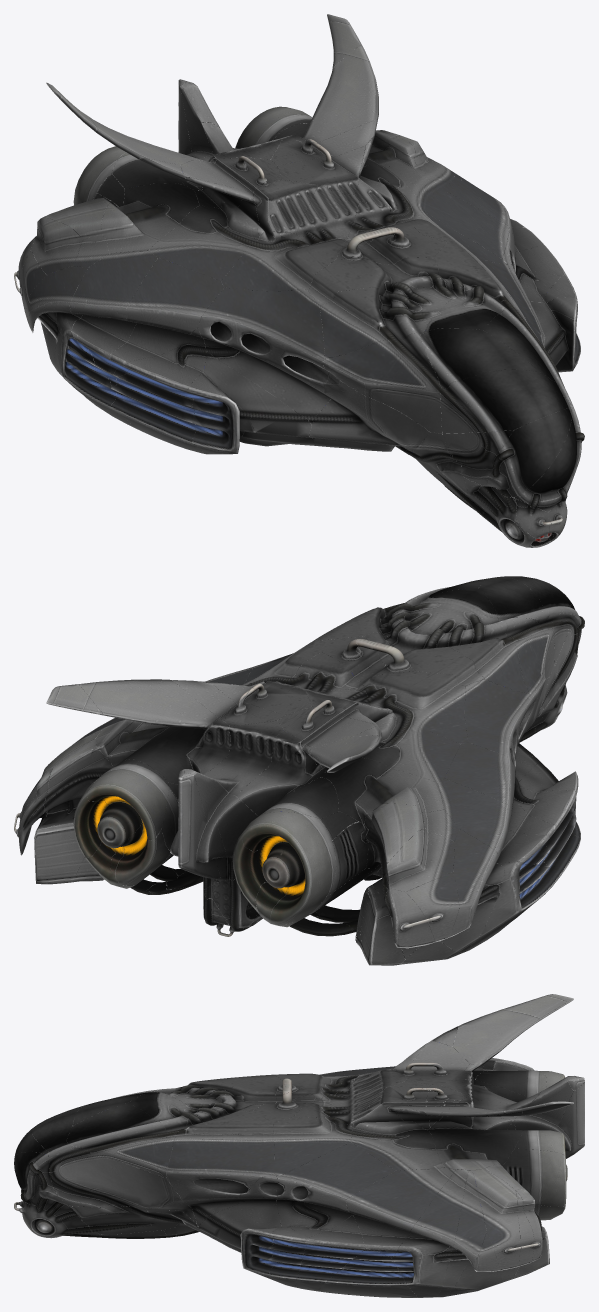
File: shipExplosion.glb
The picture shows the model from 3 angles, top to bottom: view 1: azimuth 30°, elevation 25°; view 2: azimuth 150°, elevation 25°; view 3: azimuth 270°, elevation 25°; orthographic projection. The views are drawn at different scales.
Visible parts, largest first — view 1: origin_cell.037, origin_cell.080, origin_cell.095, origin_cell.092, origin_cell.076, origin_cell.022, origin_cell.055, origin_cell.091, origin_cell.082, origin_cell.047, origin_cell.056, origin_cell.031 (+43 smaller); view 2: origin_cell.082, origin_cell.063, origin_cell.059, origin_cell.056, origin_cell.041, origin_cell.092, origin_cell.031, origin_cell.037, origin_cell.055, origin_cell.087, origin_cell.091, origin_cell.080 (+51 smaller); view 3: origin_cell, origin_cell.025, origin_cell.072, origin_cell.057, origin_cell.094, origin_cell.082, origin_cell.053, origin_cell.039, origin_cell.124, origin_cell.097, origin_cell.018, origin_cell.036 (+38 smaller).
Boxes of the visible parts, left/top/right/bottom form: origin_cell.037: left=198, top=287, right=330, bottom=424; origin_cell.080: left=109, top=257, right=224, bottom=384; origin_cell.095: left=110, top=338, right=207, bottom=454; origin_cell.092: left=320, top=278, right=462, bottom=358; origin_cell.076: left=323, top=333, right=442, bottom=433; origin_cell.022: left=440, top=369, right=572, bottom=433; origin_cell.055: left=70, top=251, right=157, bottom=387; origin_cell.091: left=149, top=177, right=259, bottom=280; origin_cell.082: left=272, top=45, right=415, bottom=167; origin_cell.047: left=309, top=371, right=429, bottom=452; origin_cell.056: left=221, top=231, right=345, bottom=291; origin_cell.031: left=101, top=183, right=199, bottom=253; origin_cell.082: left=78, top=679, right=230, bottom=784; origin_cell.063: left=242, top=812, right=335, bottom=925; origin_cell.059: left=34, top=738, right=113, bottom=884; origin_cell.056: left=362, top=671, right=468, bottom=744; origin_cell.041: left=87, top=759, right=168, bottom=848; origin_cell.092: left=405, top=612, right=529, bottom=694; origin_cell.031: left=320, top=758, right=443, bottom=823; origin_cell.037: left=464, top=679, right=539, bottom=782; origin_cell.055: left=438, top=778, right=548, bottom=866; origin_cell.087: left=440, top=829, right=504, bottom=952; origin_cell.091: left=345, top=712, right=460, bottom=783; origin_cell.080: left=444, top=742, right=555, bottom=862; origin_cell: left=166, top=1107, right=274, bottom=1226; origin_cell.025: left=48, top=1143, right=196, bottom=1223; origin_cell.072: left=346, top=1167, right=454, bottom=1258; origin_cell.057: left=392, top=1169, right=468, bottom=1297; origin_cell.094: left=66, top=1103, right=175, bottom=1178; origin_cell.082: left=428, top=1096, right=526, bottom=1170; origin_cell.053: left=198, top=1174, right=281, bottom=1280; origin_cell.039: left=351, top=1104, right=443, bottom=1170; origin_cell.124: left=453, top=994, right=573, bottom=1067; origin_cell.097: left=284, top=1142, right=395, bottom=1199; origin_cell.018: left=276, top=1174, right=352, bottom=1287; origin_cell.036: left=273, top=1117, right=353, bottom=1174.
Bounding box in the file's own units: 5.98 × 3.1 × 8.5.
Materials: 1 (1 with a texture image).
